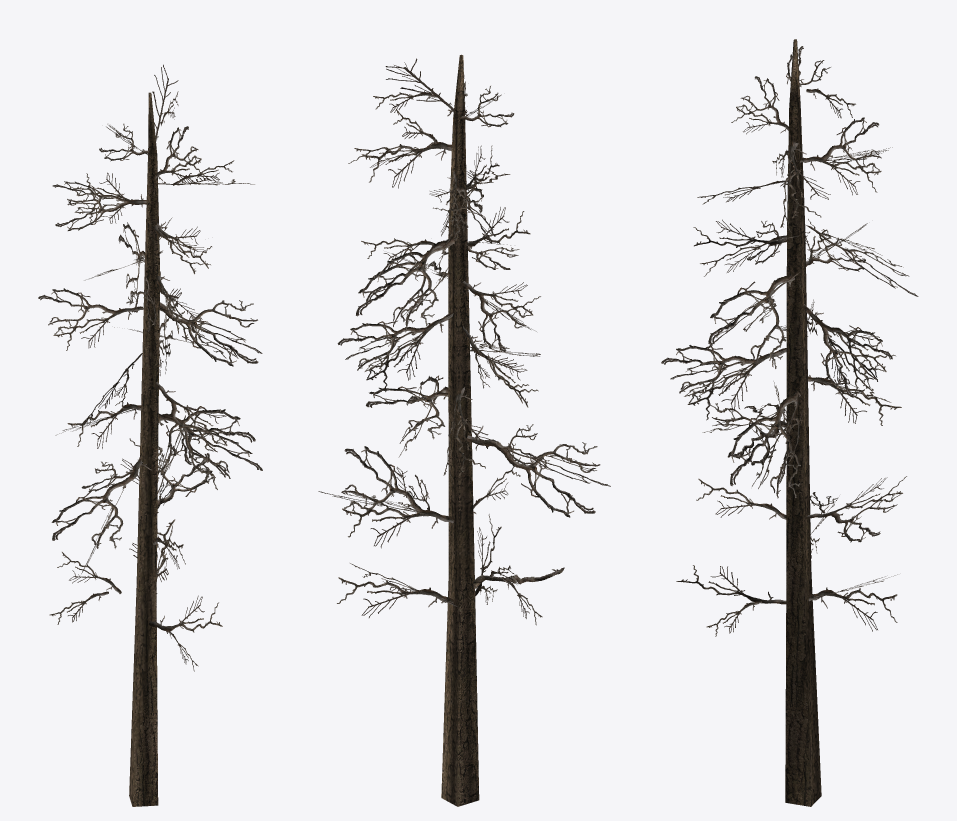
The model's file is Vegetation_Deadtree01_lod1.glb.
3 renders of one model, left to right at view 1: azimuth 30°, elevation 25°; view 2: azimuth 150°, elevation 25°; view 3: azimuth 270°, elevation 25°, orthographic. The views are drawn at different scales.
Visible parts, largest first — view 1: xiutz_deadtree01_lod1; view 2: xiutz_deadtree01_lod1; view 3: xiutz_deadtree01_lod1.
Boxes of the visible parts, x1,y1,x2,y2 form: xiutz_deadtree01_lod1: [38, 64, 262, 806]; xiutz_deadtree01_lod1: [318, 54, 610, 806]; xiutz_deadtree01_lod1: [661, 39, 918, 806].
Bounding box in the file's own units: 9.08 × 25.83 × 8.41.
Materials: 1 (1 with a texture image).
